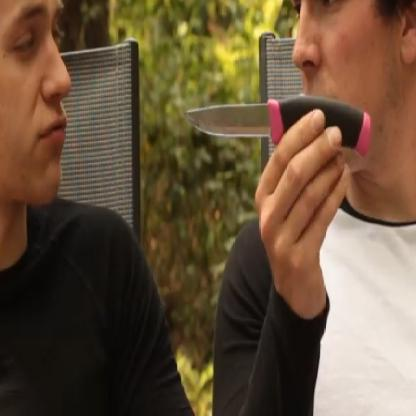knife: (170, 68, 384, 193)
